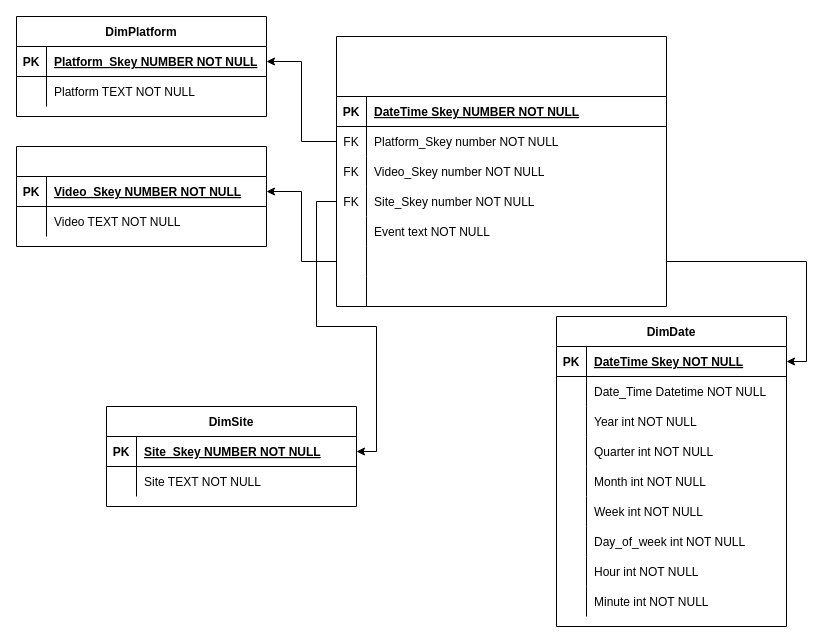
The diagram is 823 pixels wide and 643 high, and some of its shapes have lost their labels. Here are the shapes that lost their labels. From the top down, the box of each, then its label:
(336, 36, 666, 306): VideoStart_Fact
(16, 146, 266, 246): DimVideo
